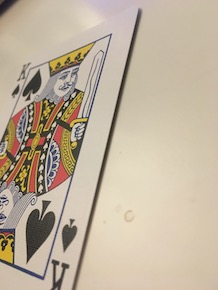KingOfSpades: (1, 3, 142, 289)
